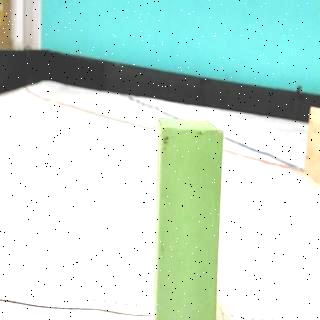greenbox: (156, 118, 224, 320)
